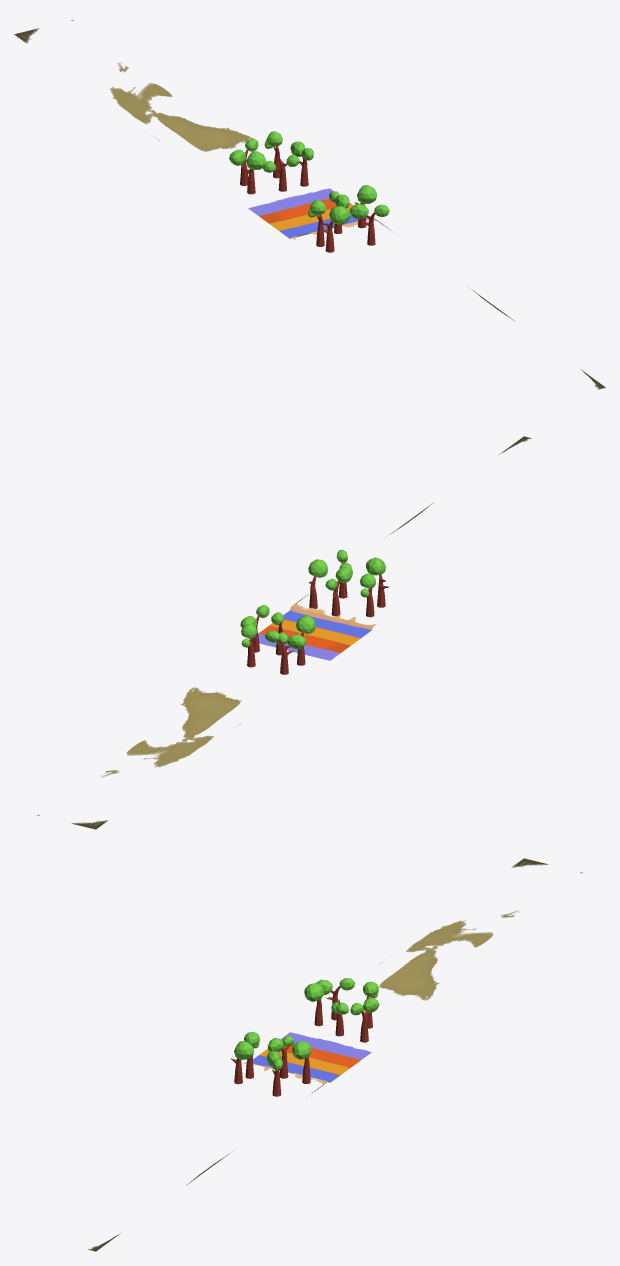
The model's file is forestPart1.fbx.
3 views of the same model, one above another, from view 1: azimuth 30°, elevation 25°; view 2: azimuth 150°, elevation 25°; view 3: azimuth 330°, elevation 25° (orthographic).
Visible parts, largest first — view 1: forestPart1; view 2: forestPart1; view 3: forestPart1.
Boxes of the visible parts, x1=… form: forestPart1: x1=14, y1=19, x2=605, y2=389; forestPart1: x1=37, y1=436, x2=531, y2=829; forestPart1: x1=88, y1=858, x2=582, y2=1251.
Bounding box in the file's own units: 1675 × 912 × 18053.
